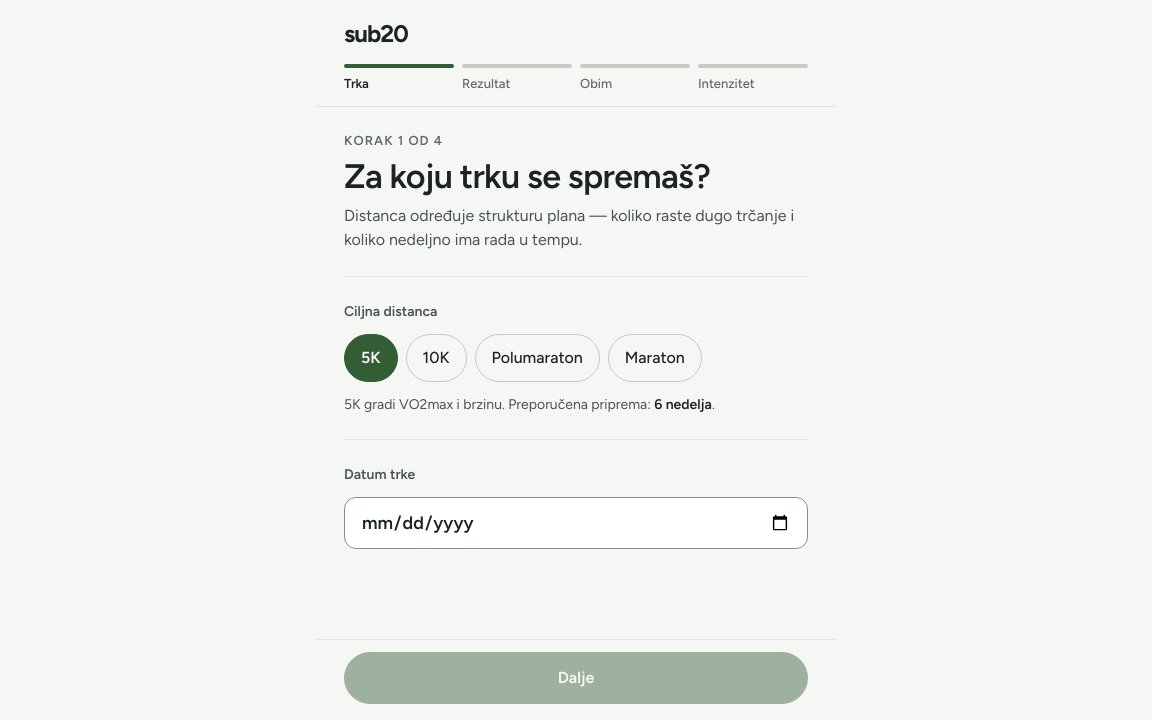
Test: maraton v2 iza prekidača › isključen: čarobnjak maratona je stari (rezultat je obavezan, bez polja v2)
Click the button "Maraton" at x=655, y=358, box [608,334,702,382]
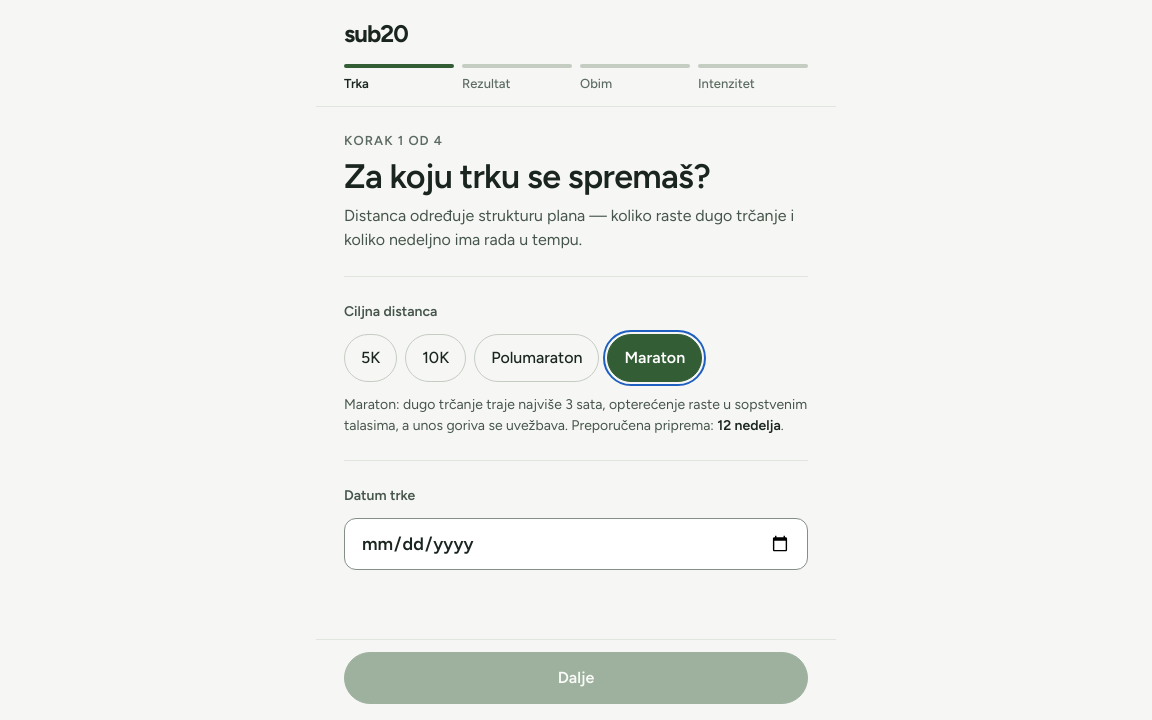
Type "2026-05-10" into the date field named "Datum trke" at x=576, y=544, box [344,518,808,570]
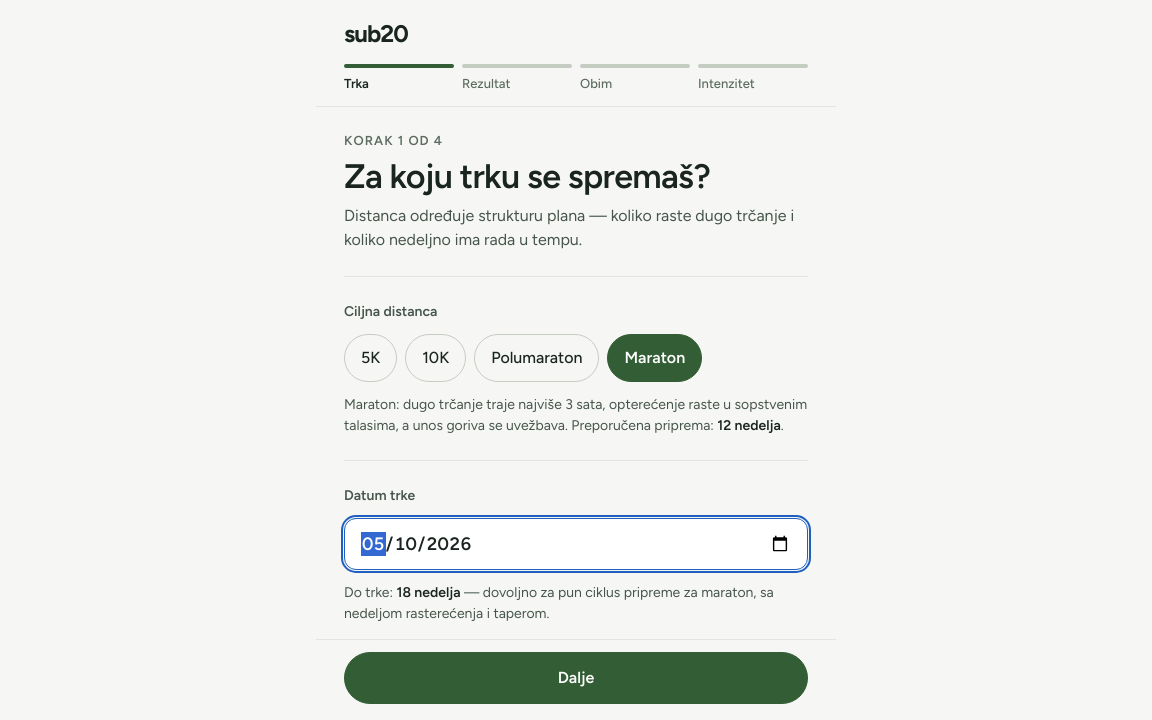
Click the button "Dalje" at x=576, y=678, box [344,652,808,704]
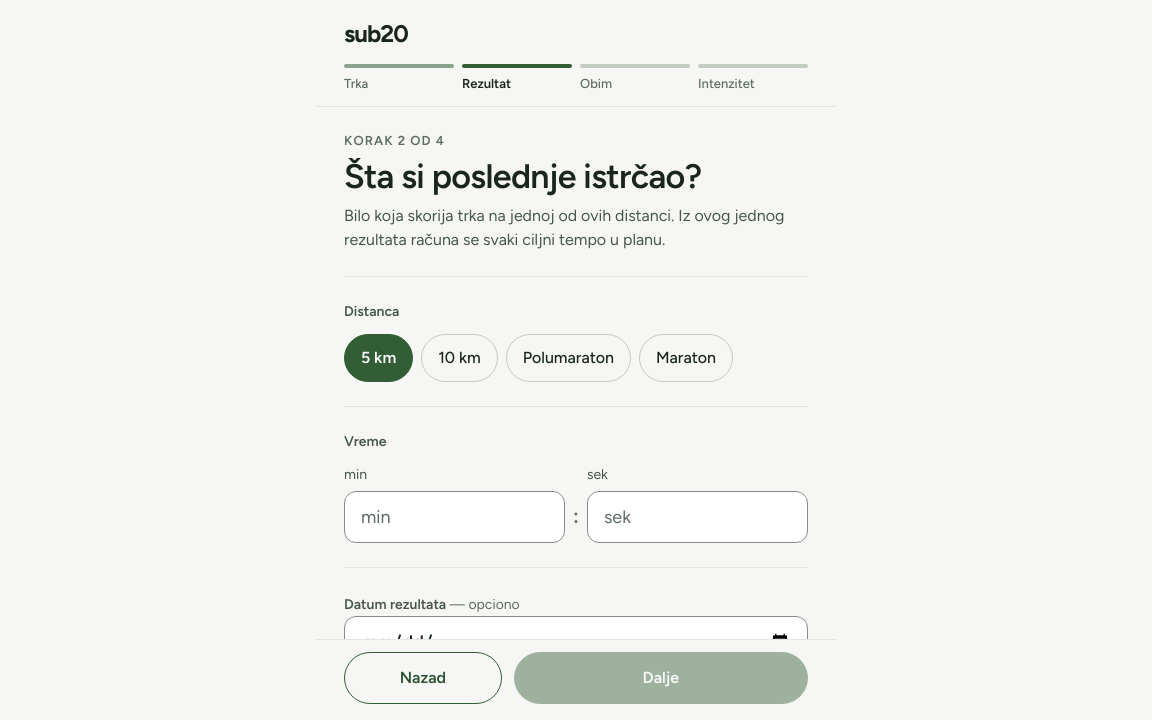
Expected: the heading "Šta si poslednje istrčao?" is shown, [344,156,701,197]
